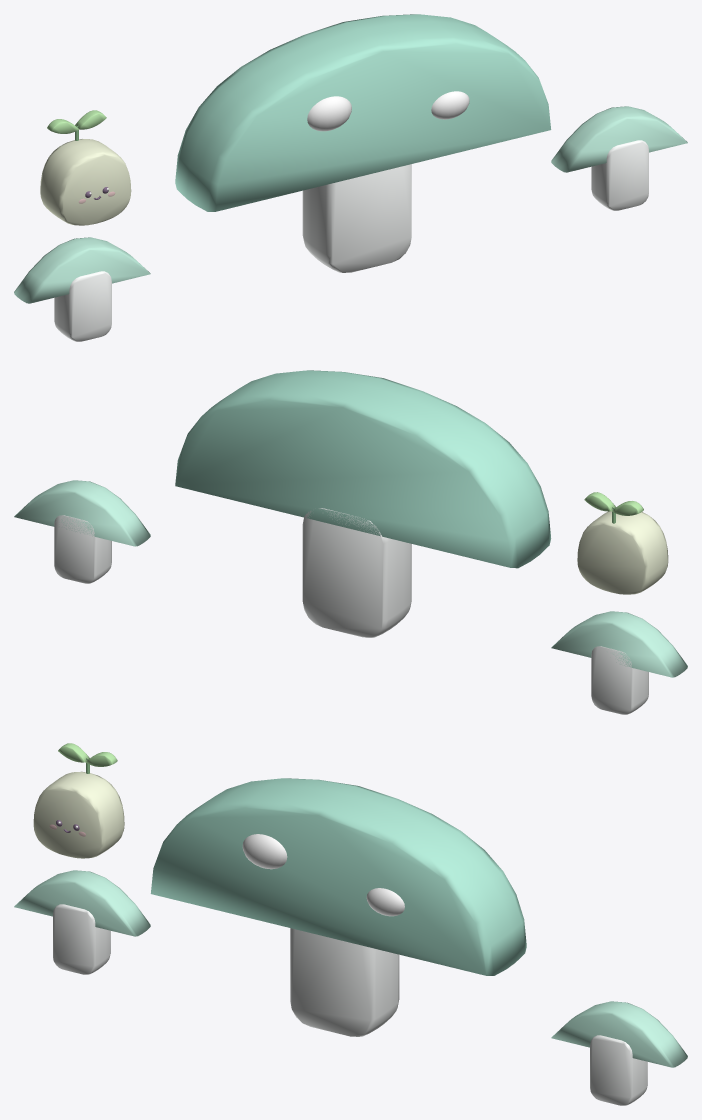
The model's file is decor_2_mint.glb.
3 views of the same model, one above another, from view 1: azimuth 30°, elevation 25°; view 2: azimuth 150°, elevation 25°; view 3: azimuth 330°, elevation 25° (orthographic).
Parts seen in each view (by area): view 1: decor_2_mint; view 2: decor_2_mint; view 3: decor_2_mint.
Part boxes in pixels (x1,y1,x2,y2): decor_2_mint: [14, 14, 687, 341]; decor_2_mint: [14, 370, 687, 714]; decor_2_mint: [14, 743, 687, 1105].
Bounding box in the file's own units: 19.71 × 6.97 × 2.38.
